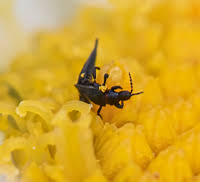Phlaeothripidae: (72, 37, 145, 121)
